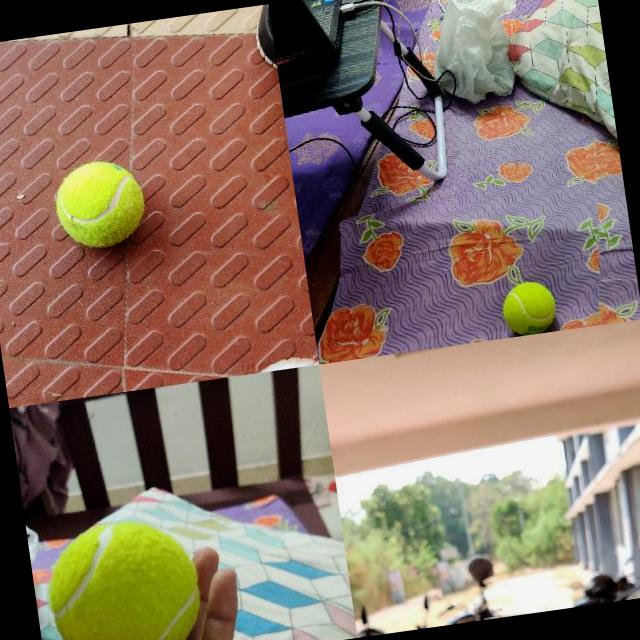Tennis Ball: (40, 512, 209, 640), (52, 157, 148, 253), (498, 278, 559, 338)
